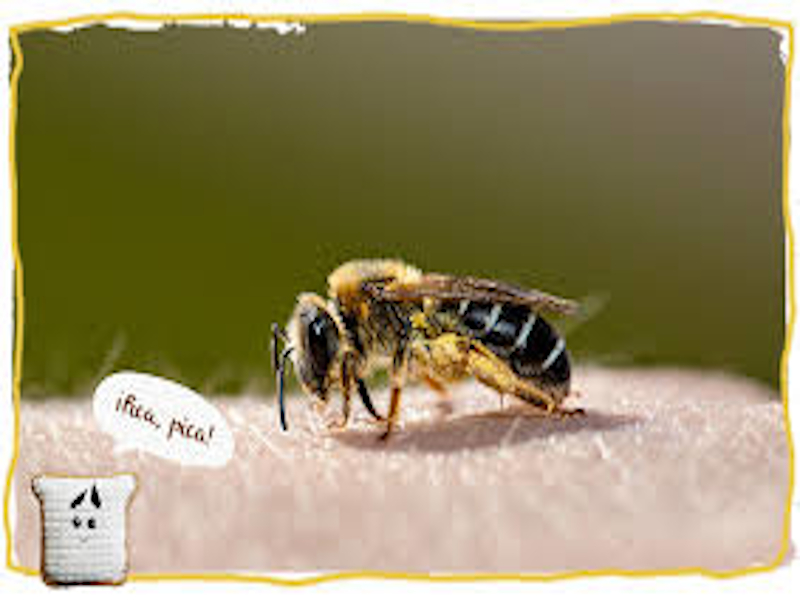abeja: (251, 237, 632, 458)
